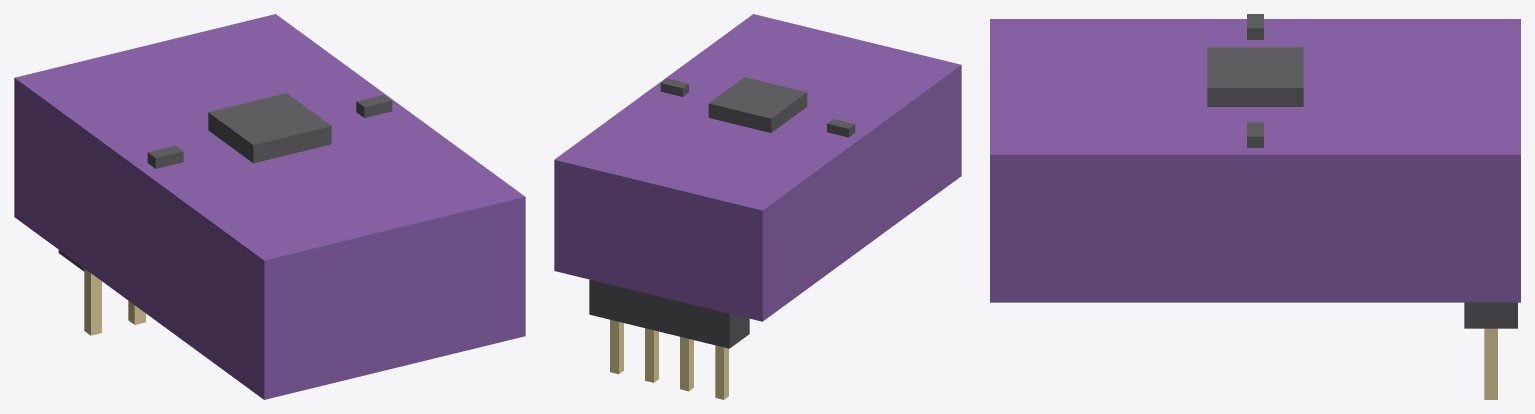
Rendered from dht22.glb.
3 views of the same model, side by side, from view 1: azimuth 30°, elevation 25°; view 2: azimuth 150°, elevation 25°; view 3: azimuth 270°, elevation 25° (orthographic). The views are drawn at different scales.
Parts seen in each view (by area): view 1: dht22-pcb, dht22-ic, dht22-pins; view 2: dht22-pcb, dht22-plastic, dht22-ic, dht22-pins; view 3: dht22-pcb, dht22-ic, dht22-plastic, dht22-pins.
Boxes of the visible parts, bbox=[...] form: dht22-pcb: bbox=[14, 14, 525, 399]; dht22-ic: bbox=[147, 93, 392, 168]; dht22-pins: bbox=[84, 270, 145, 335]; dht22-pcb: bbox=[554, 14, 961, 321]; dht22-plastic: bbox=[589, 279, 749, 348]; dht22-ic: bbox=[660, 77, 855, 137]; dht22-pins: bbox=[610, 319, 728, 399]; dht22-pcb: bbox=[990, 19, 1520, 302]; dht22-ic: bbox=[1207, 14, 1303, 147]; dht22-plastic: bbox=[1464, 302, 1517, 328]; dht22-pins: bbox=[1484, 328, 1497, 399].
Bounding box in the file's own units: 0.0151 × 0.0154 × 0.025.
